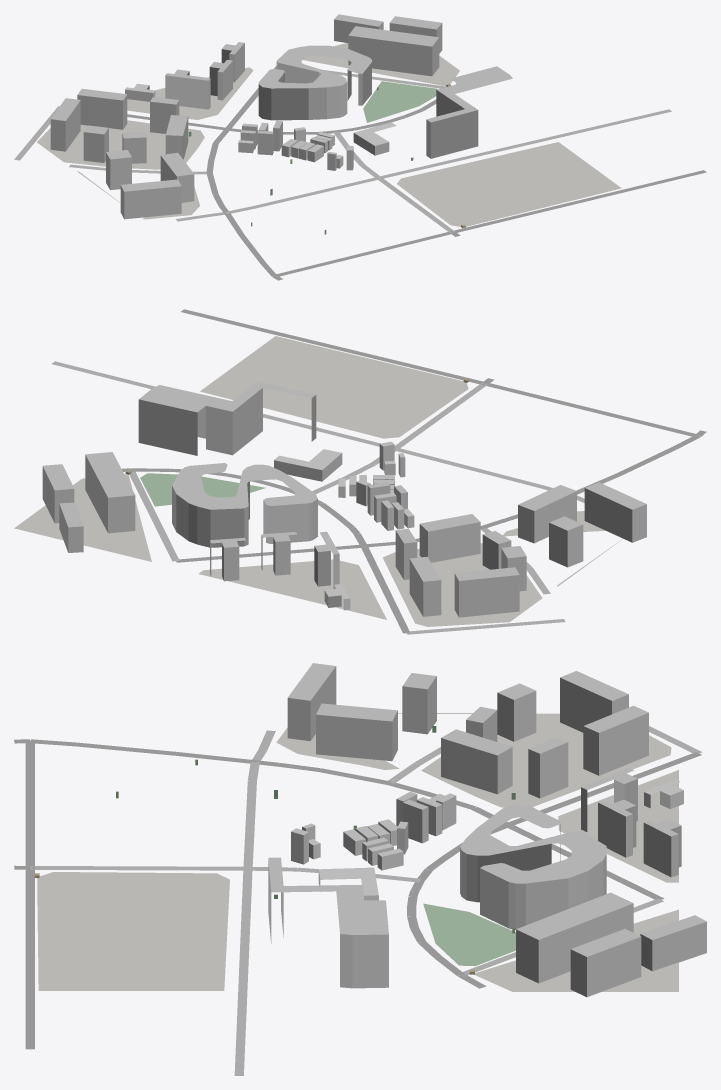
3 views of the same model, one above another, from view 1: azimuth 30°, elevation 25°; view 2: azimuth 150°, elevation 25°; view 3: azimuth 270°, elevation 25° (orthographic). The views are drawn at different scales.
Bounding box in the file's own units: 695 × 45.74 × 525.
